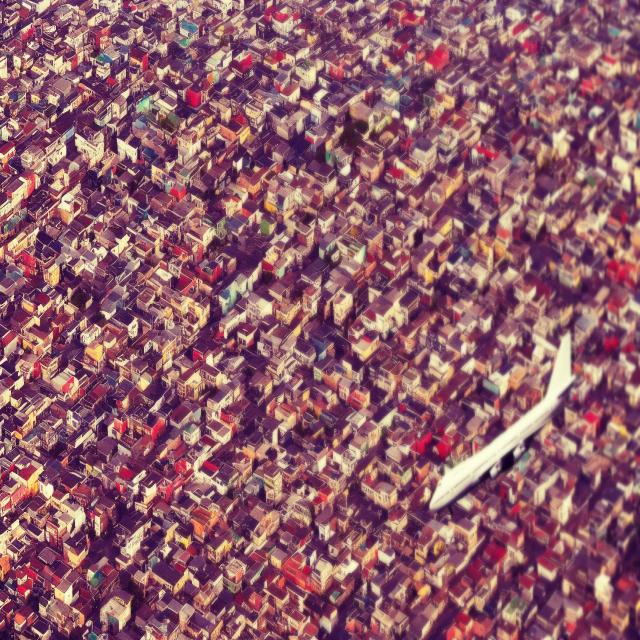airplane: (428, 331, 576, 513)
